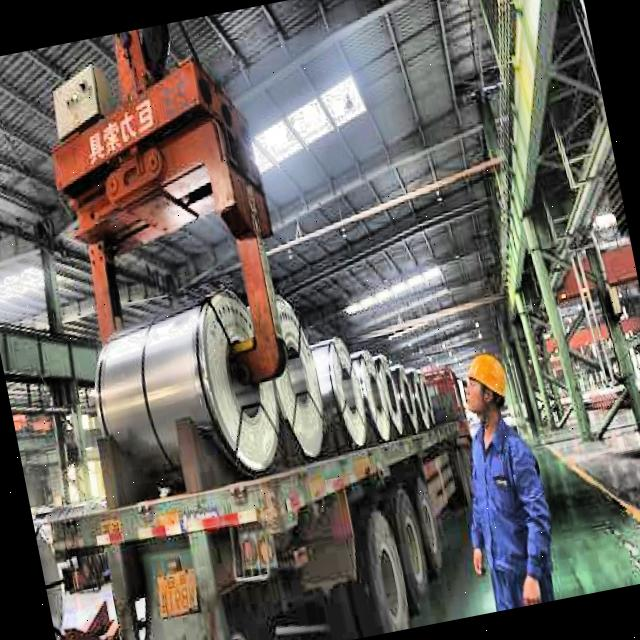helmet: (456, 342, 516, 426)
